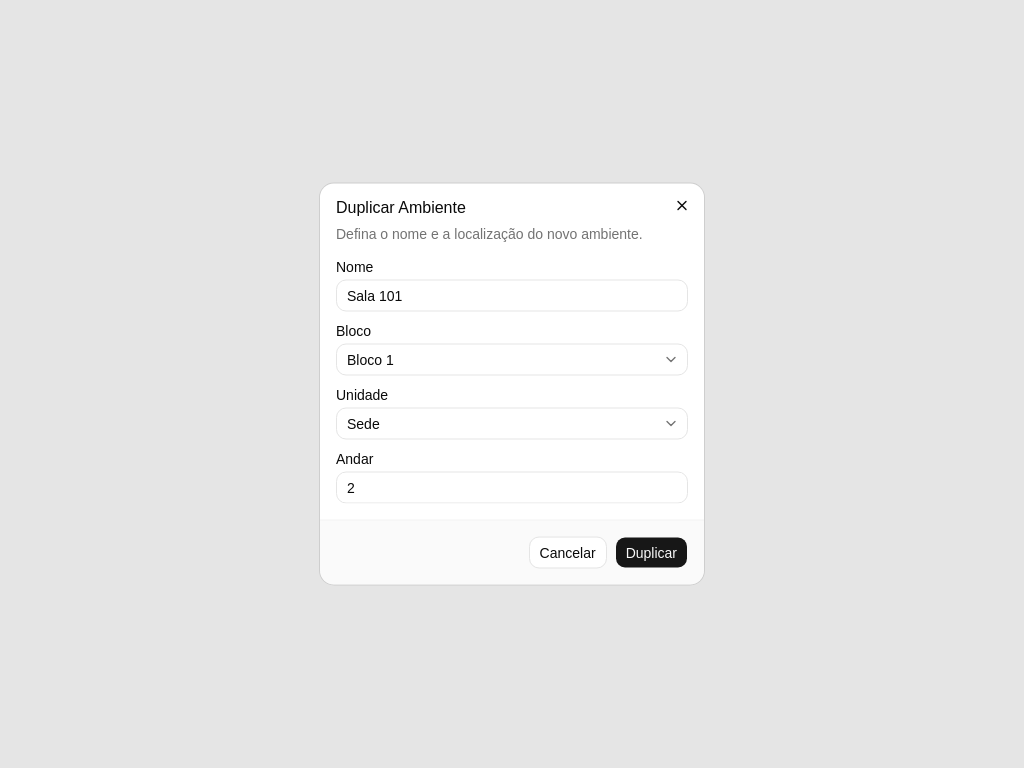
ModalDuplicar › validação client-side › não submete com localização inválida (andar vazio) e exibe erro
Clear the number field labelled "Andar". click: (512, 488)
box: [336,472,688,504]
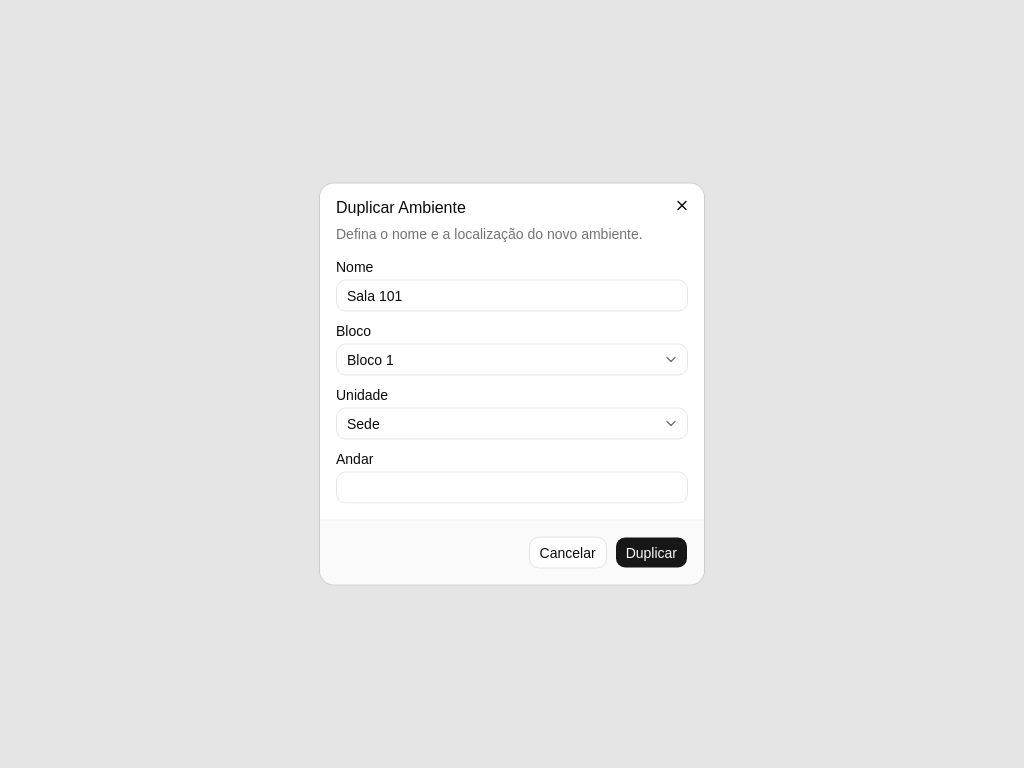
Click the button "Duplicar". click: click(651, 552)
box: [615,536,688,568]
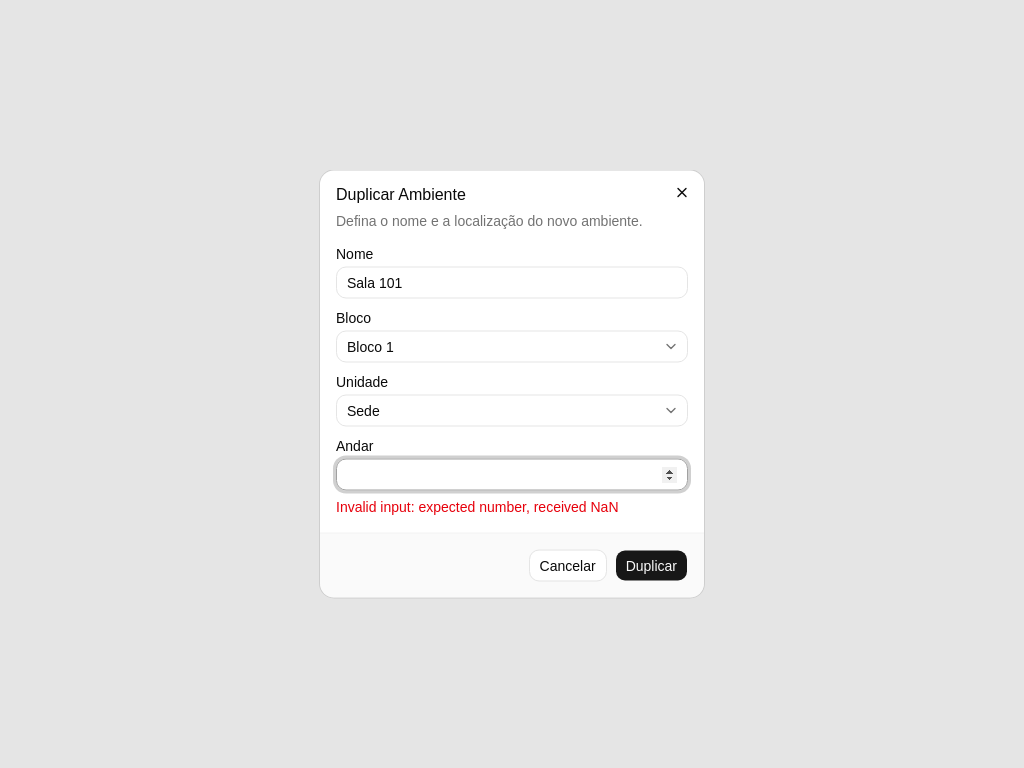
Check: the message is shown, box [336,498,618,514]
